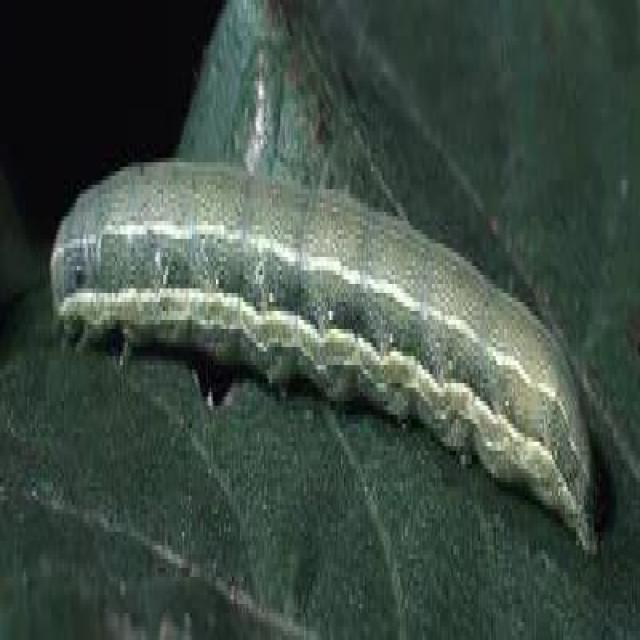BeetArmyWorm-Larva-: (29, 124, 598, 565)
